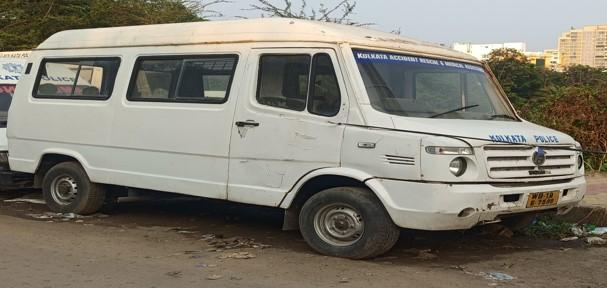Auto: (8, 16, 588, 263)
